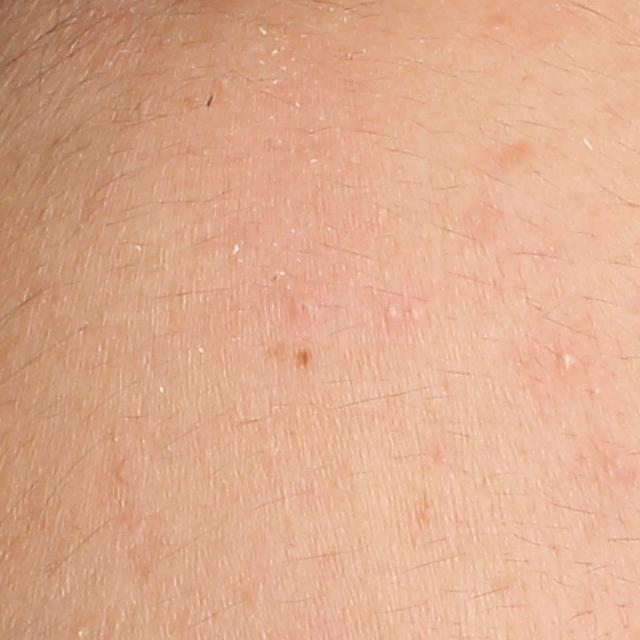comedo: (551, 347, 579, 377), (380, 301, 402, 324)
nevus: (294, 346, 312, 367)
